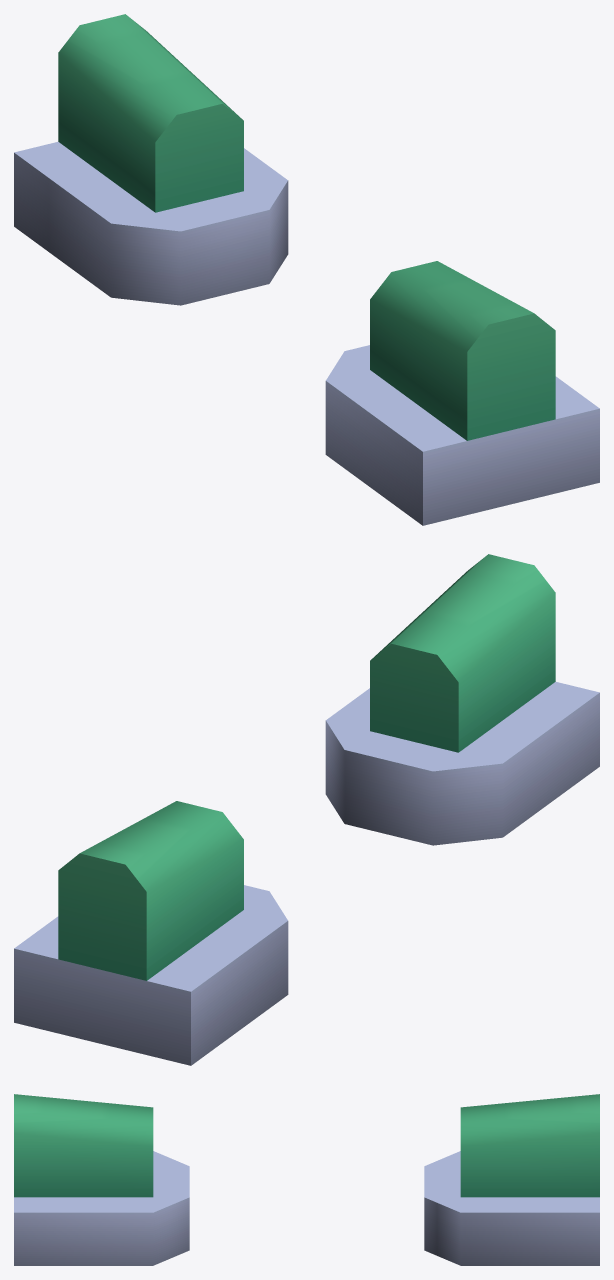
The model's file is hedge-gate.glb.
The picture shows the model from 3 angles, top to bottom: view 1: azimuth 30°, elevation 25°; view 2: azimuth 150°, elevation 25°; view 3: azimuth 270°, elevation 25°; orthographic projection. The views are drawn at different scales.
Visible parts, largest first — view 1: hedge-gate; view 2: hedge-gate; view 3: hedge-gate.
Part boxes in pixels (x1=…): hedge-gate: x1=14, y1=14, x2=599, y2=525; hedge-gate: x1=14, y1=554, x2=599, y2=1065; hedge-gate: x1=14, y1=1094, x2=599, y2=1265.
Size of the model in its own units: 0.25 by 0.25 by 1.
1 material, 1 textured.
